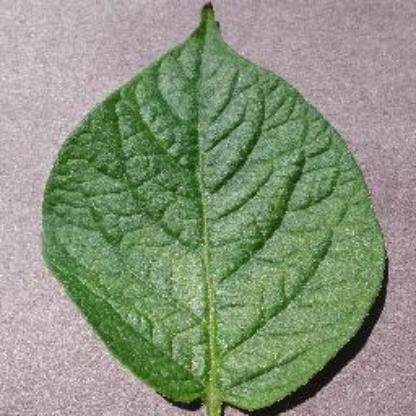Healthy-plant: (38, 8, 392, 412)
